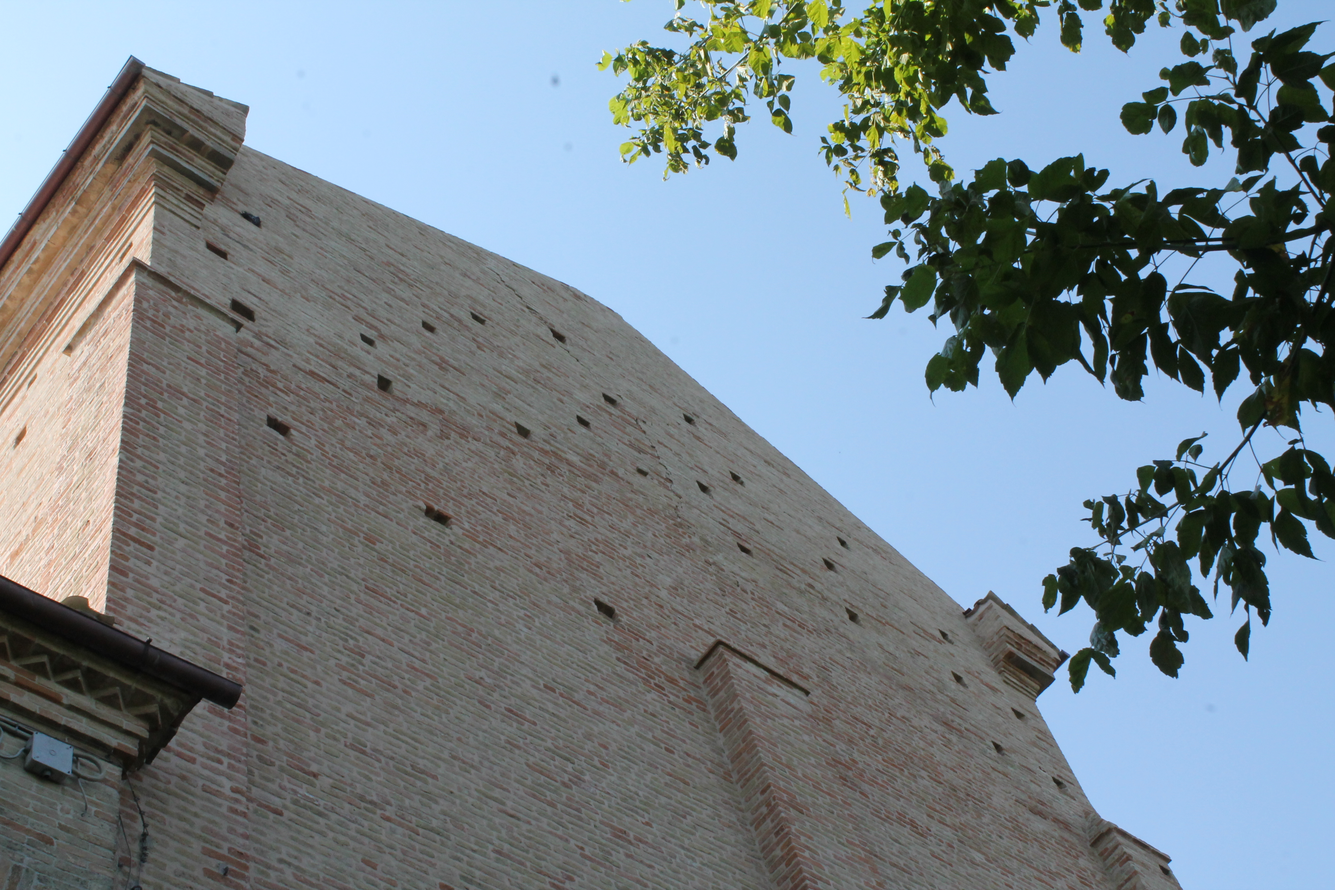Crack: (484, 258, 615, 394), (627, 412, 716, 582)
